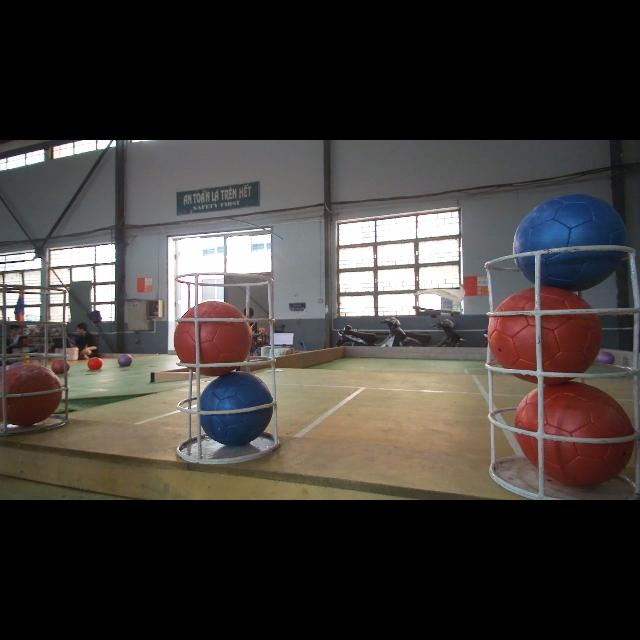B: (515, 193, 640, 289), (200, 372, 278, 450)
R: (488, 292, 604, 384), (174, 302, 260, 374), (0, 364, 62, 428)
